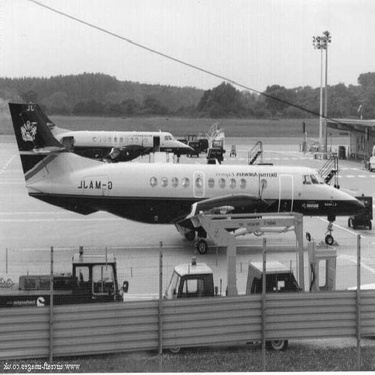airplane: (6, 96, 369, 247), (23, 98, 194, 164)
